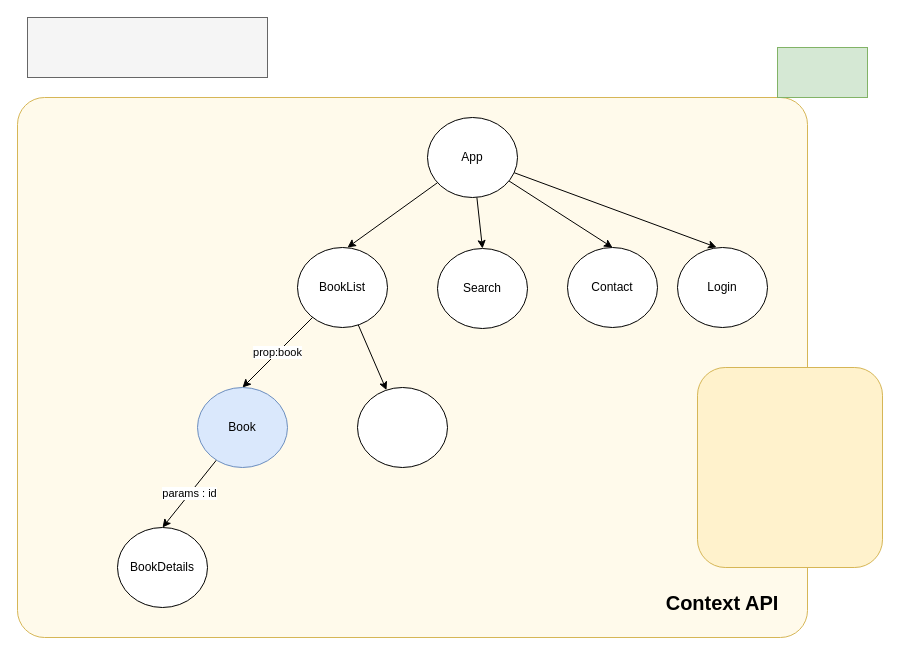
Image size: 900x655. Some labels were removed from this diagram. Here are the shapes that lost their labels. From the top down, the centre of each, then its label:
(147,47): Single Page Application (SPA)
(822,72): data.js
(402,427): BookAdd
(789,467): books setBooks, isLogin setIsLogin, snackbar, setSnackbar
